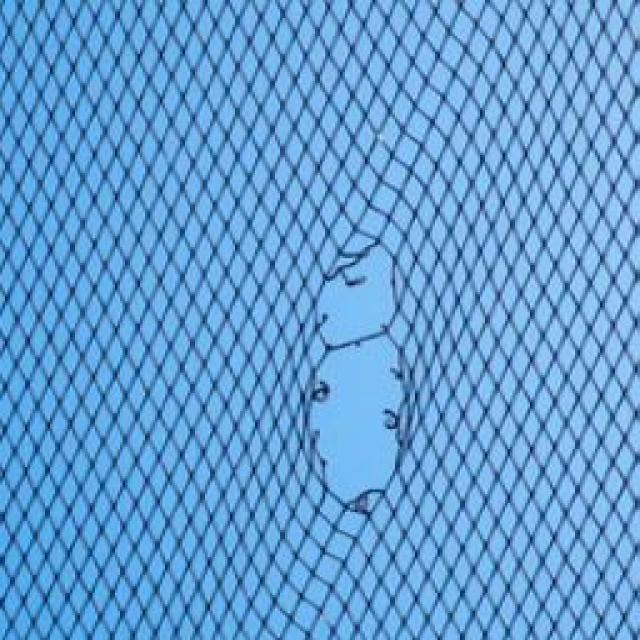fence line: (283, 212, 426, 539)
